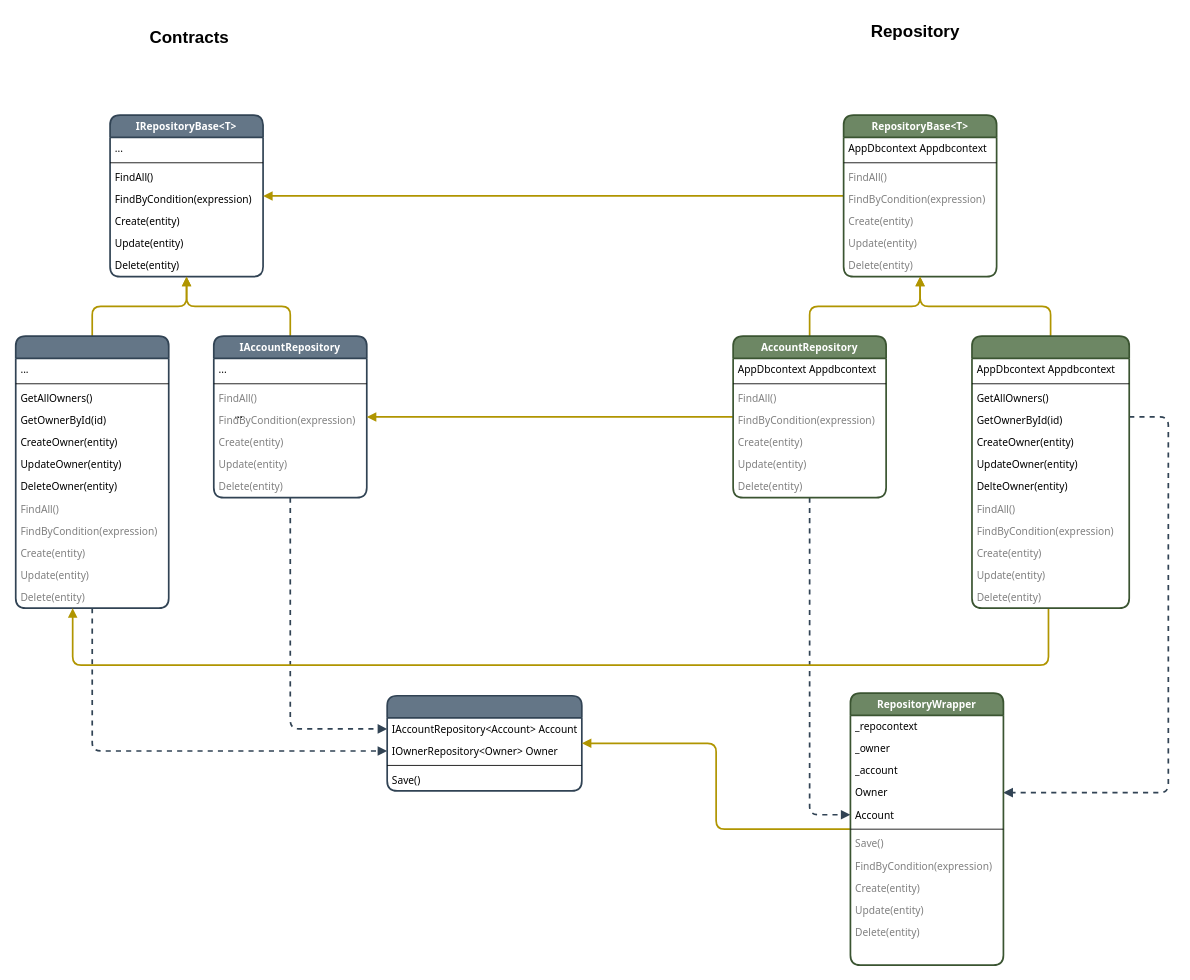
Some shapes in this 1190 by 980 pixel diagram are drawn without their labels. Here are the shapes that lost their labels. From the top down, the box of each, then its label:
(14, 335, 169, 609): IOwnerRepository
(971, 335, 1130, 609): OwnerRepository
(386, 694, 582, 791): IRepositoryWrapper
